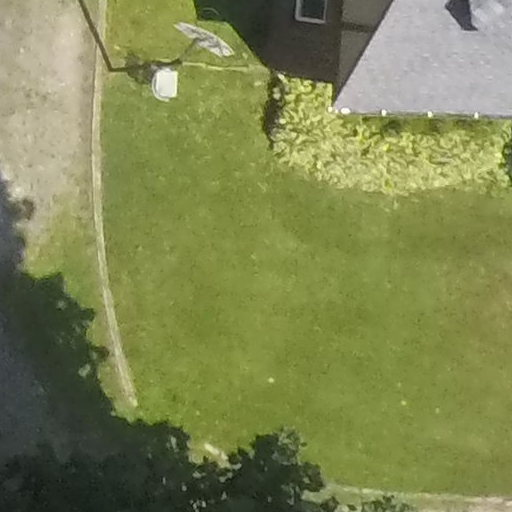basketball: (141, 5, 239, 108)
